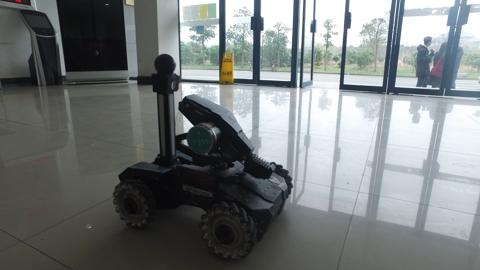chariot: (110, 53, 297, 263)
